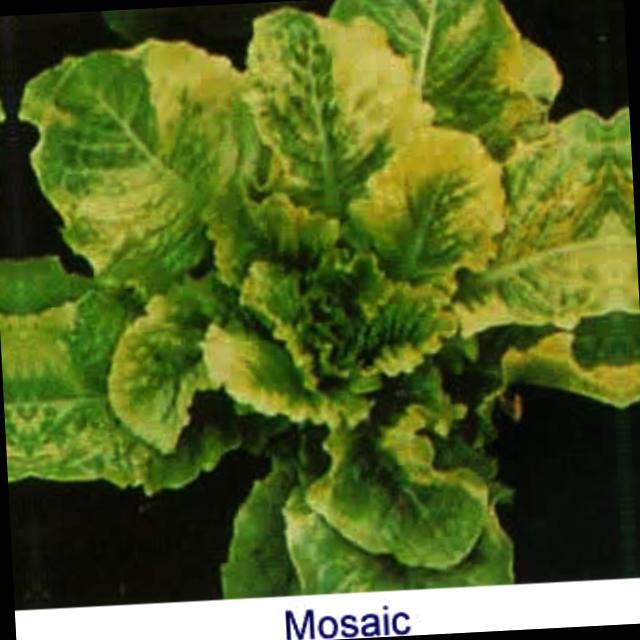lettuce mosaic virus: (24, 28, 608, 578), (621, 26, 640, 547), (0, 58, 18, 580)
